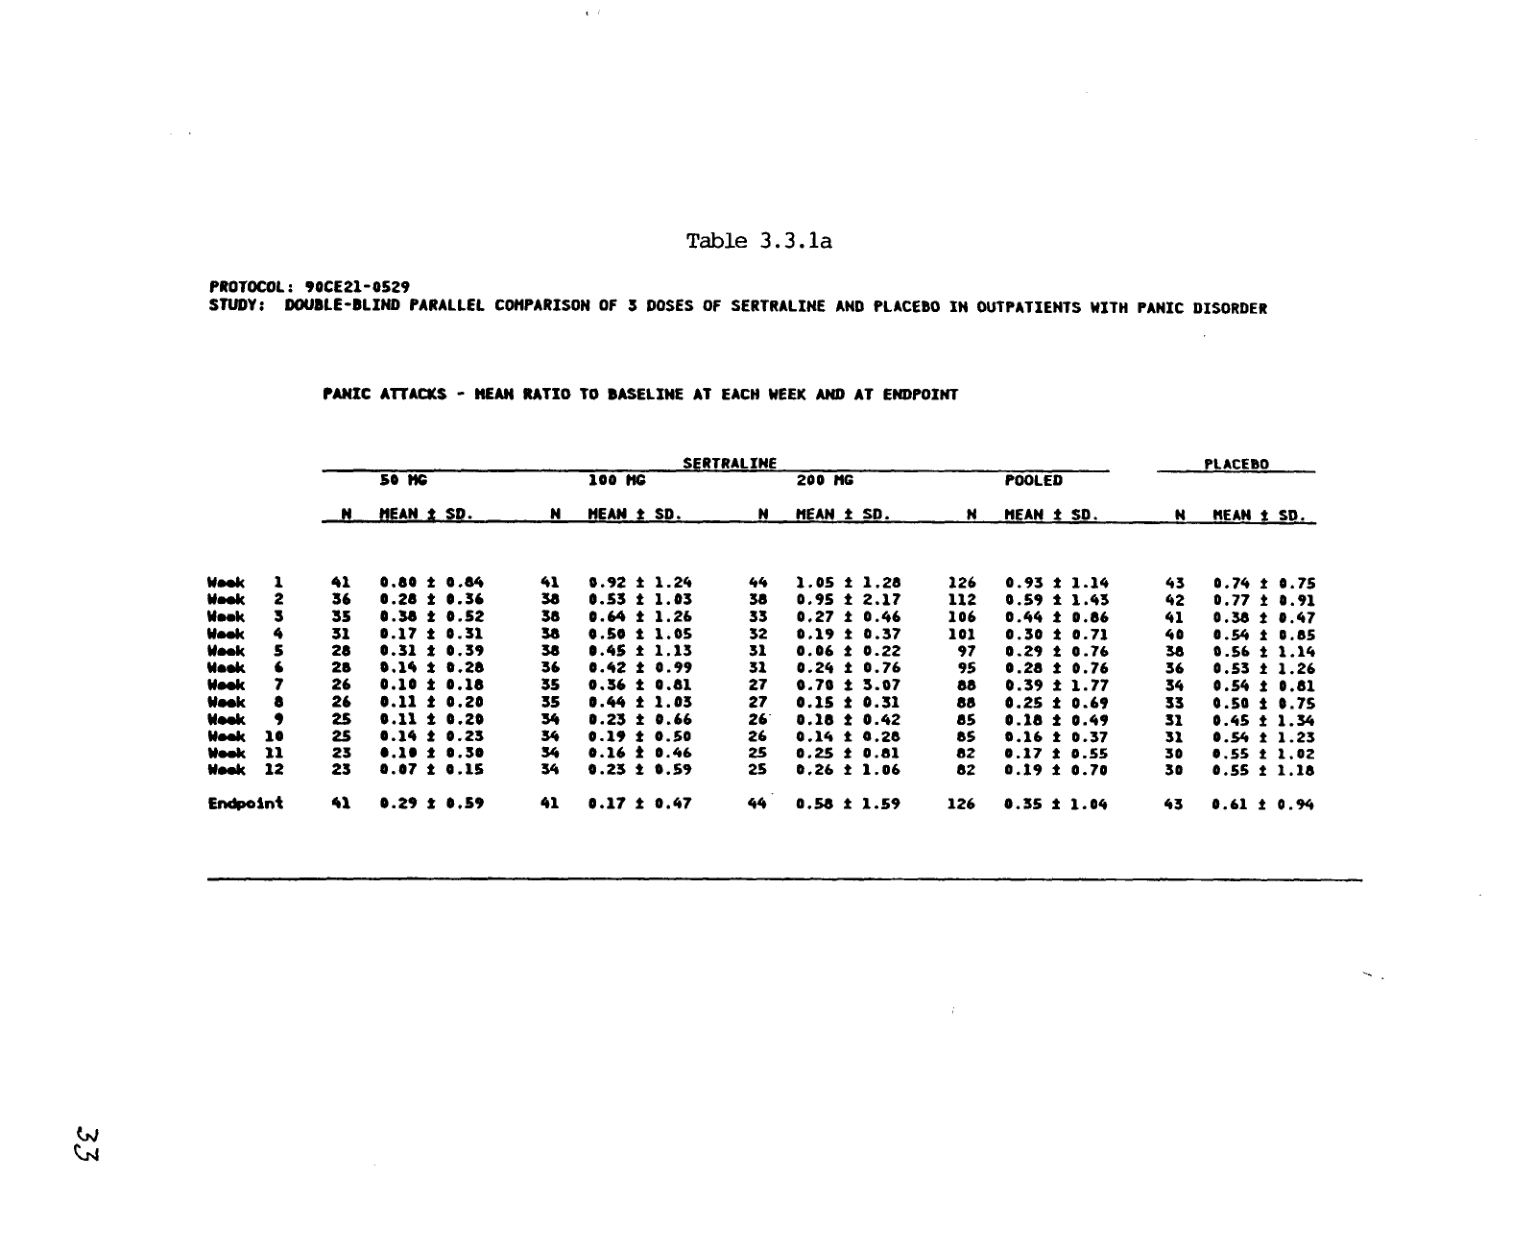partial_lined_merged_cells: (199, 453, 1365, 883)
